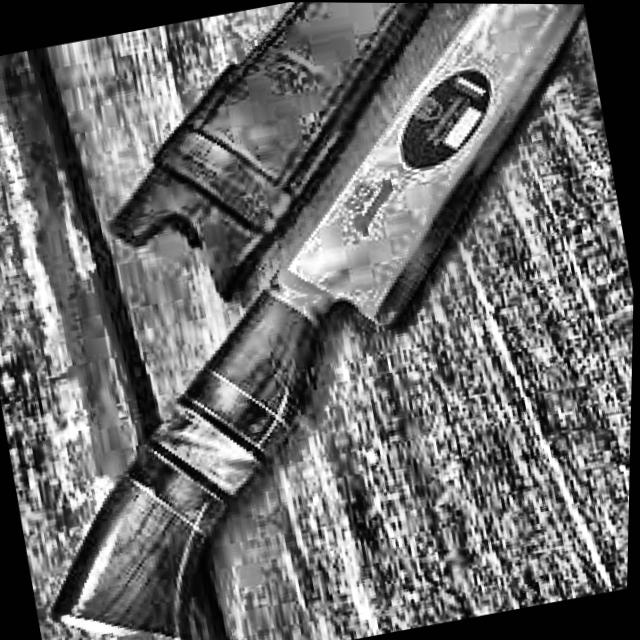pisau: (42, 4, 585, 640)
